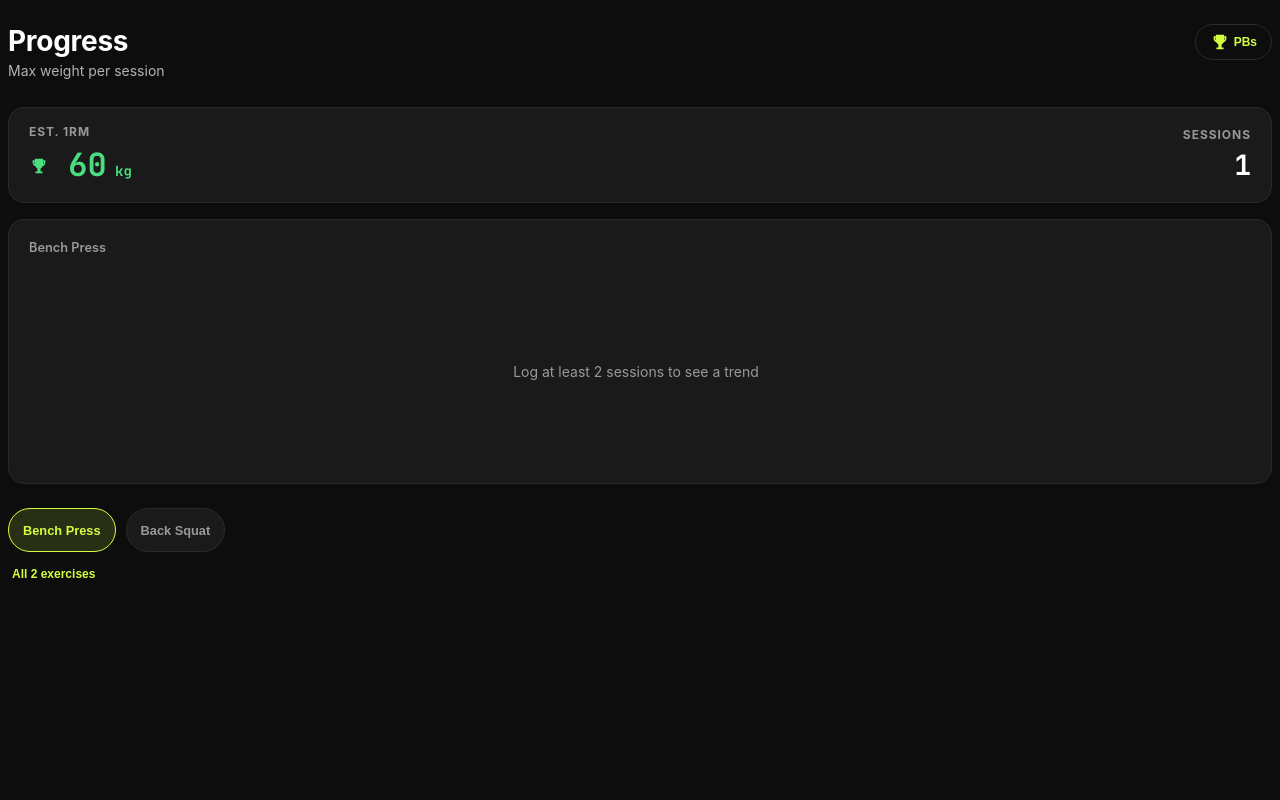
Scenario: Progress page › a user tap still switches the selected exercise normally
Expected: the button "Bench Press" is shown, [8, 508, 116, 552]
Click the button "Back Squat" at (175, 530), box [126, 508, 225, 552]
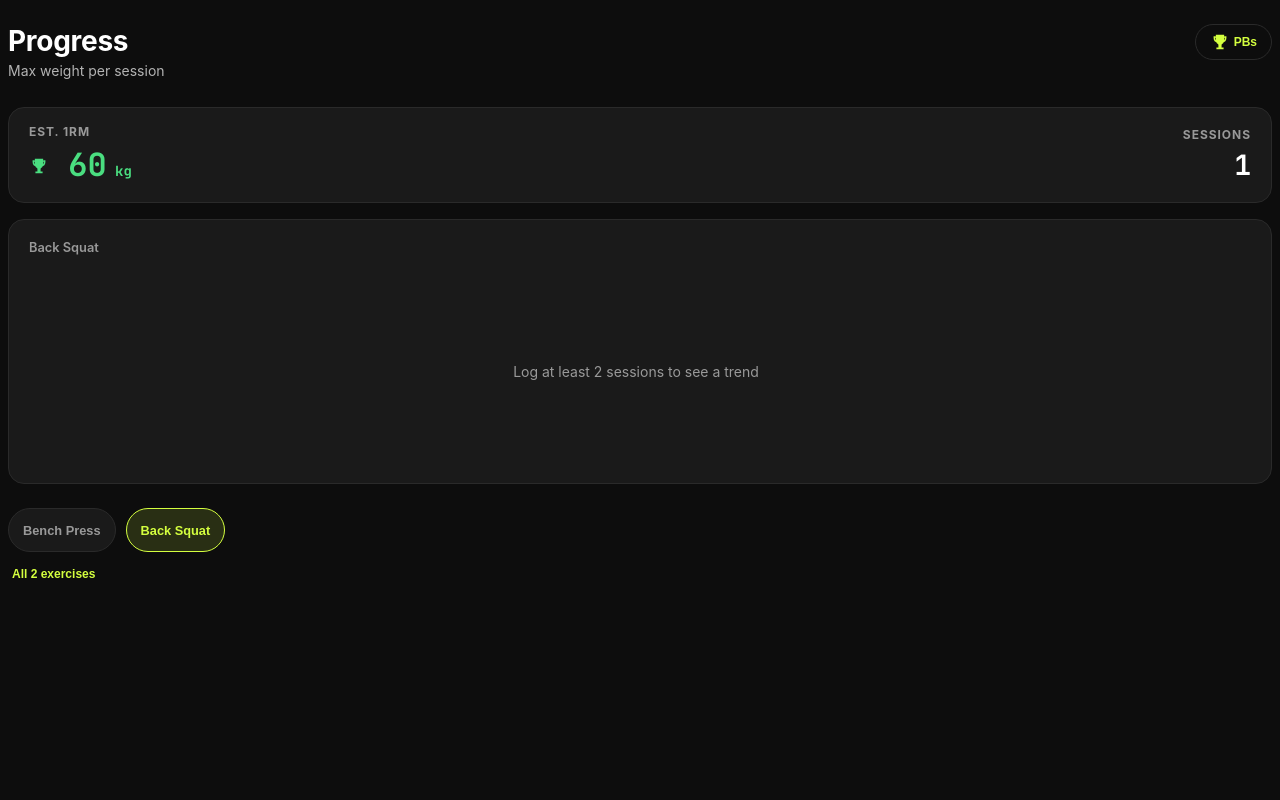
Expected: the text "Back Squat" is shown, [29, 240, 99, 255]
